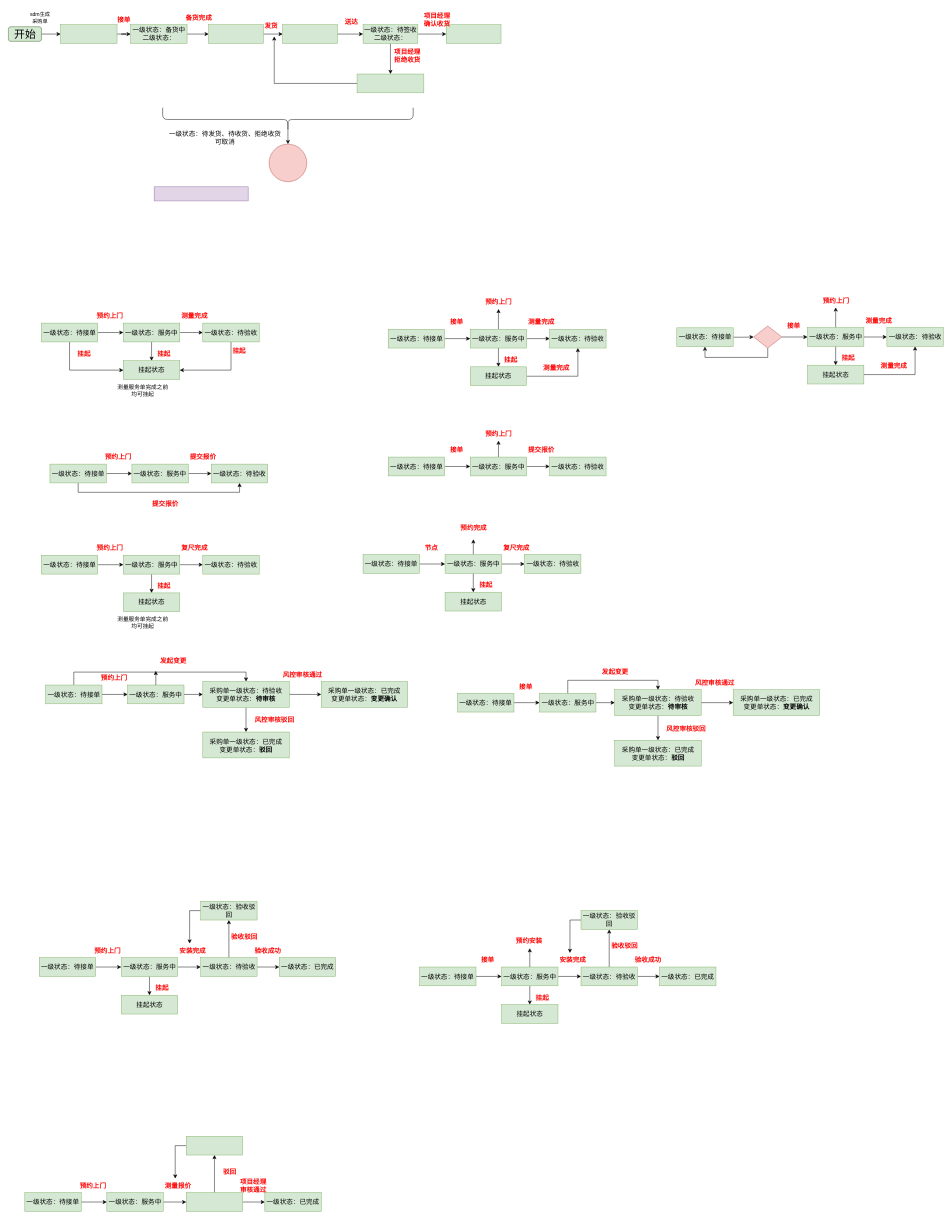
This 951x1220 diagram has some shape labels left out. Here are the shapes that lost their labels. From the top down, the centre of each, then its label:
the point at 88,33: 一级状态：待接单 二级状态：
the point at 235,33: 一级状态：待发货 二级状态：
the point at 309,33: 一级状态：待收货 二级状态：
the point at 473,33: 一级状态：已完成 二级状态：
the point at 390,83: 一级状态：拒绝收货 二级状态：
the point at 288,163: 已关闭
the point at 201,193: home2.5-代销直送流程
the point at 767,336: 业务标识
the point at 214,1145: 二级状态：驳回
the point at 214,1201: 二级状态：待审核
